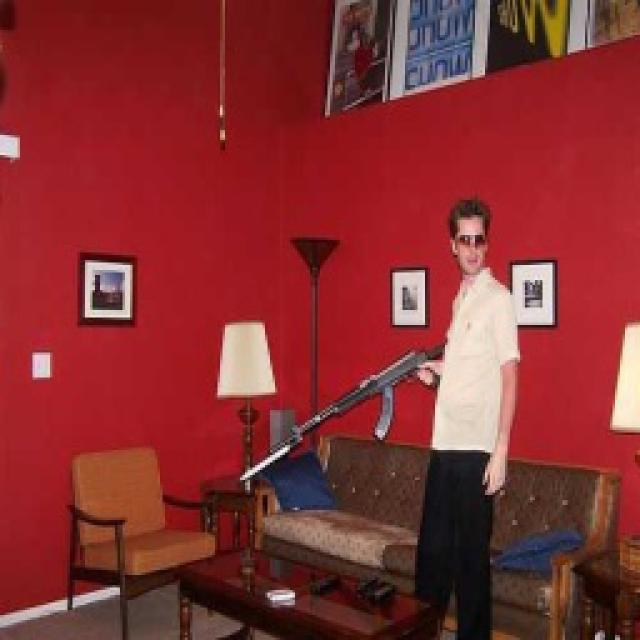long weapon: (218, 321, 465, 519)
